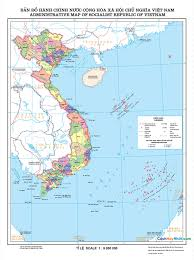Island: (120, 160, 176, 204), (107, 89, 145, 118)
